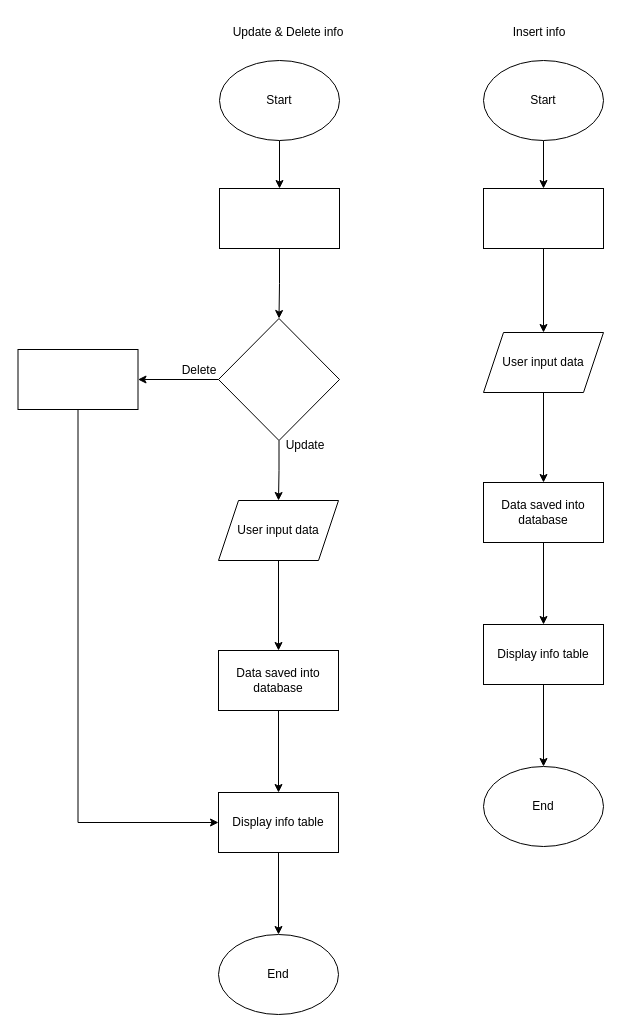
This 623x1032 diagram has some shape labels left out. The shapes that lost their labels are listed below. From the top down, each one's centre as x and y in pixels, then its label:
At point 279,218: "Display table".
At point 543,218: "Display form".
At point 77,379: "Delete data from database".
At point 279,379: "Update/Delete info".
